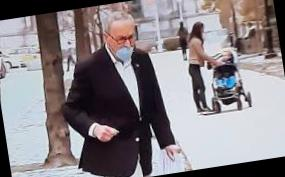mask_weared_incorrect: (111, 30, 141, 63)
